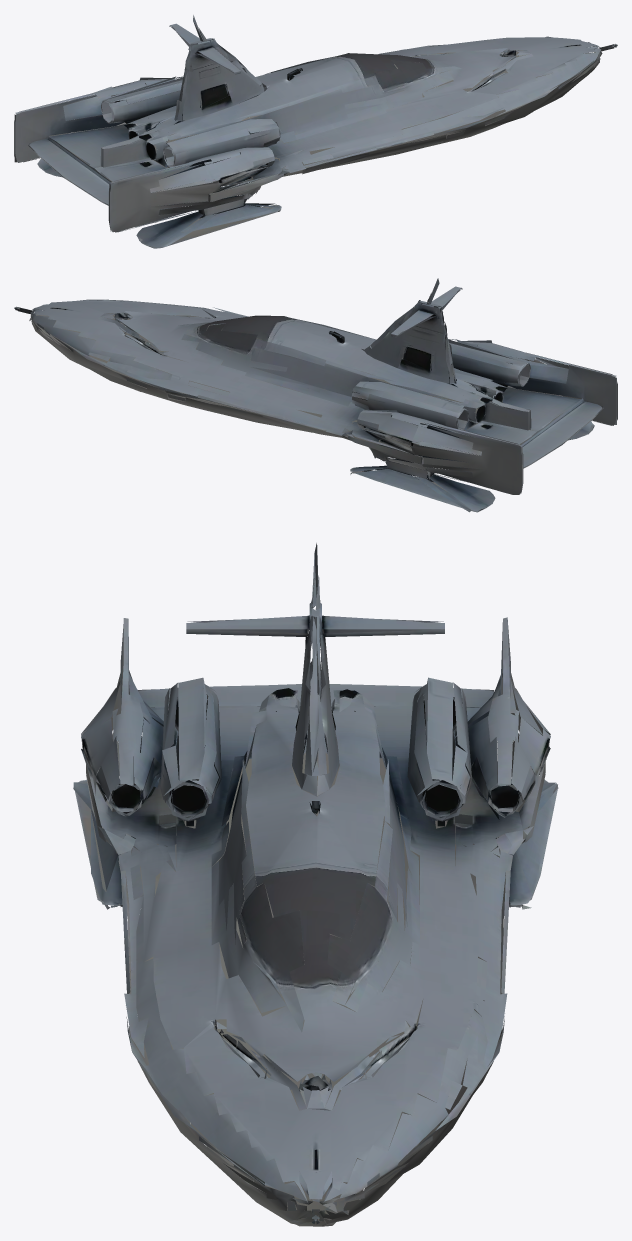
The model's file is stingray_LOD2.glb.
The picture shows the model from 3 angles, top to bottom: view 1: azimuth 30°, elevation 25°; view 2: azimuth 150°, elevation 25°; view 3: azimuth 270°, elevation 25°; orthographic projection. The views are drawn at different scales.
Visible parts, largest first — view 1: stingray_LOD2; view 2: stingray_LOD2; view 3: stingray_LOD2.
Boxes of the visible parts, bbox=[...] form: stingray_LOD2: bbox=[14, 15, 617, 248]; stingray_LOD2: bbox=[14, 278, 617, 512]; stingray_LOD2: bbox=[73, 543, 558, 1226].
Bounding box in the file's own units: 1 × 0.3017 × 0.378.
1 material, 1 textured.
